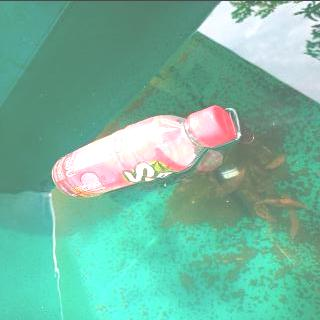bottle: (50, 104, 239, 198)
